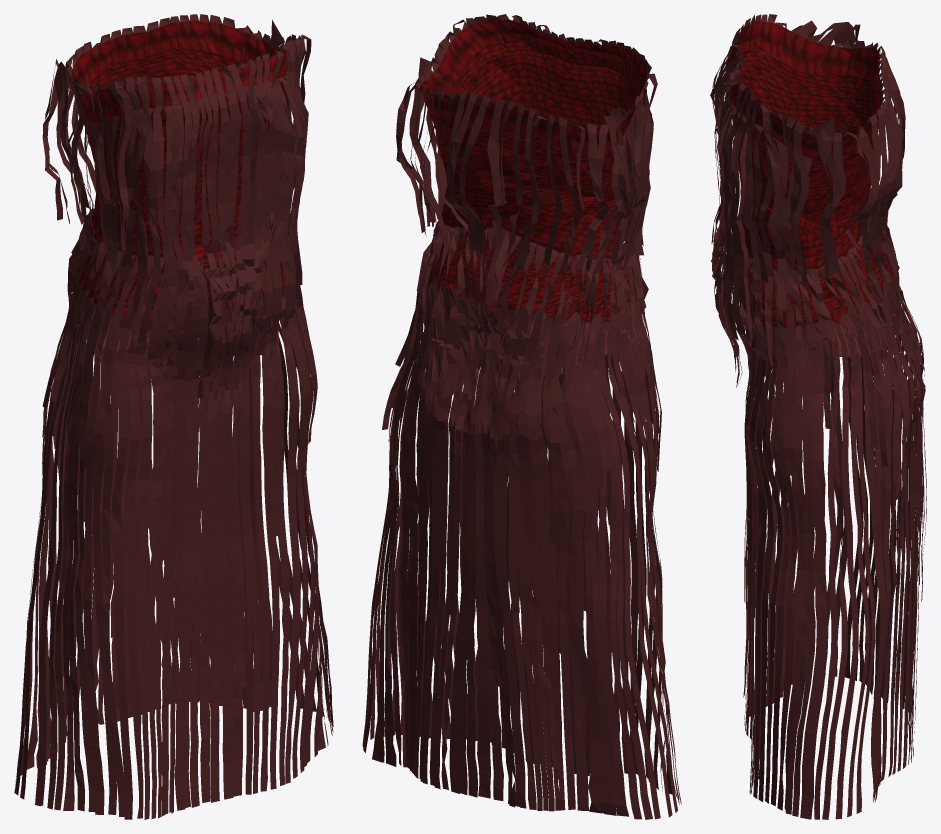
Rendered from mhw_elvs_fringe_off_shoulder_dress.glb.
3 views of the same model, side by side, from view 1: azimuth 30°, elevation 25°; view 2: azimuth 150°, elevation 25°; view 3: azimuth 270°, elevation 25° (orthographic). The views are drawn at different scales.
Parts seen in each view (by area): view 1: mhw_elvs_fringe_off_shoulder_dress; view 2: mhw_elvs_fringe_off_shoulder_dress; view 3: mhw_elvs_fringe_off_shoulder_dress.
Boxes of the visible parts, x1,y1,x2,y2 form: mhw_elvs_fringe_off_shoulder_dress: (14,14,333,819); mhw_elvs_fringe_off_shoulder_dress: (362,14,681,819); mhw_elvs_fringe_off_shoulder_dress: (710,14,926,819).
Bounding box in the file's own units: 0.5788 × 1.34 × 0.3684.
Materials: 1 (1 with a texture image).
